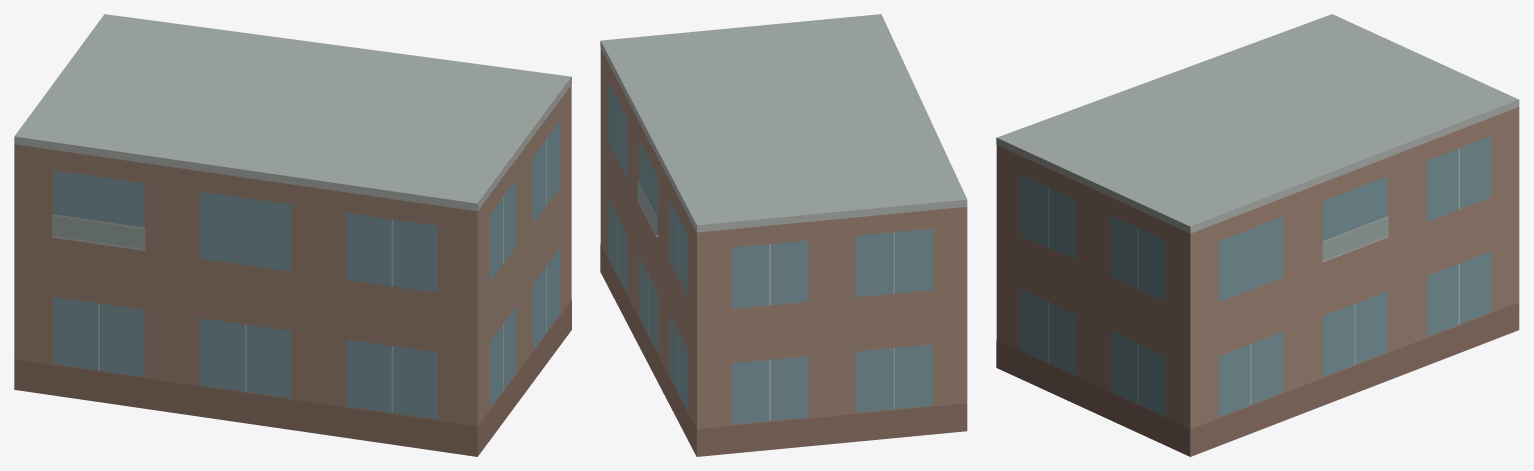
Rendered from survey-upis-32638915.glb.
3 renders of one model, left to right at view 1: azimuth 30°, elevation 25°; view 2: azimuth 150°, elevation 25°; view 3: azimuth 270°, elevation 25°, orthographic. The views are drawn at different scales.
Parts seen in each view (by area): view 1: survey-upis-32638915.tmp; view 2: survey-upis-32638915.tmp; view 3: survey-upis-32638915.tmp.
Part boxes in pixels (x1,y1,x2,y2): survey-upis-32638915.tmp: (14, 14, 571, 456); survey-upis-32638915.tmp: (600, 14, 967, 456); survey-upis-32638915.tmp: (996, 14, 1519, 456).
Bounding box in the file's own units: 15.76 × 7.95 × 16.37.
